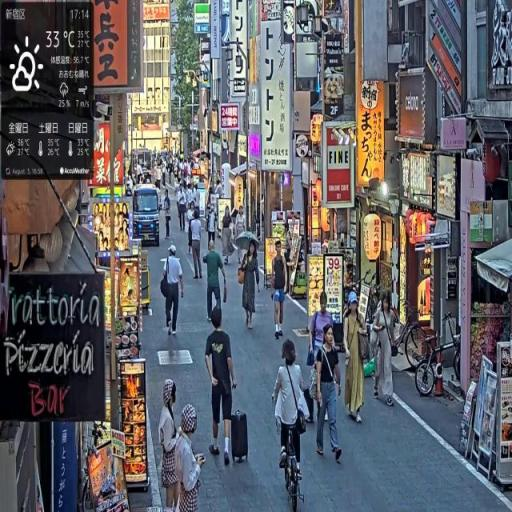person: (272, 340, 311, 488), (206, 306, 239, 467), (316, 320, 344, 464), (309, 292, 336, 429), (344, 294, 371, 423), (372, 290, 401, 409), (158, 379, 181, 512), (161, 243, 186, 337), (239, 241, 261, 332), (205, 237, 227, 323), (270, 241, 288, 340), (188, 209, 205, 280), (221, 205, 235, 263), (178, 188, 188, 232), (164, 188, 172, 239)
